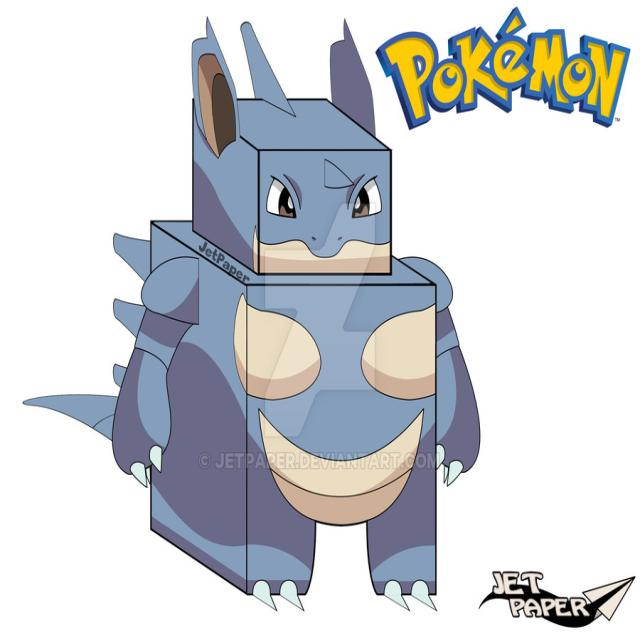Nidoqueen: (118, 70, 483, 582)
